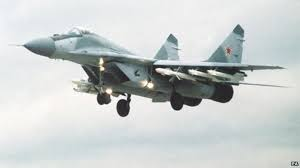fighter: (23, 23, 289, 119)
